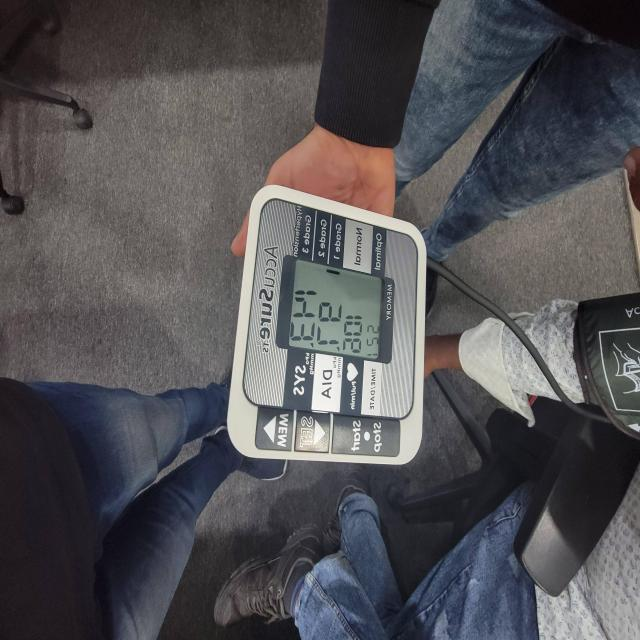bp: (227, 186, 428, 467)
